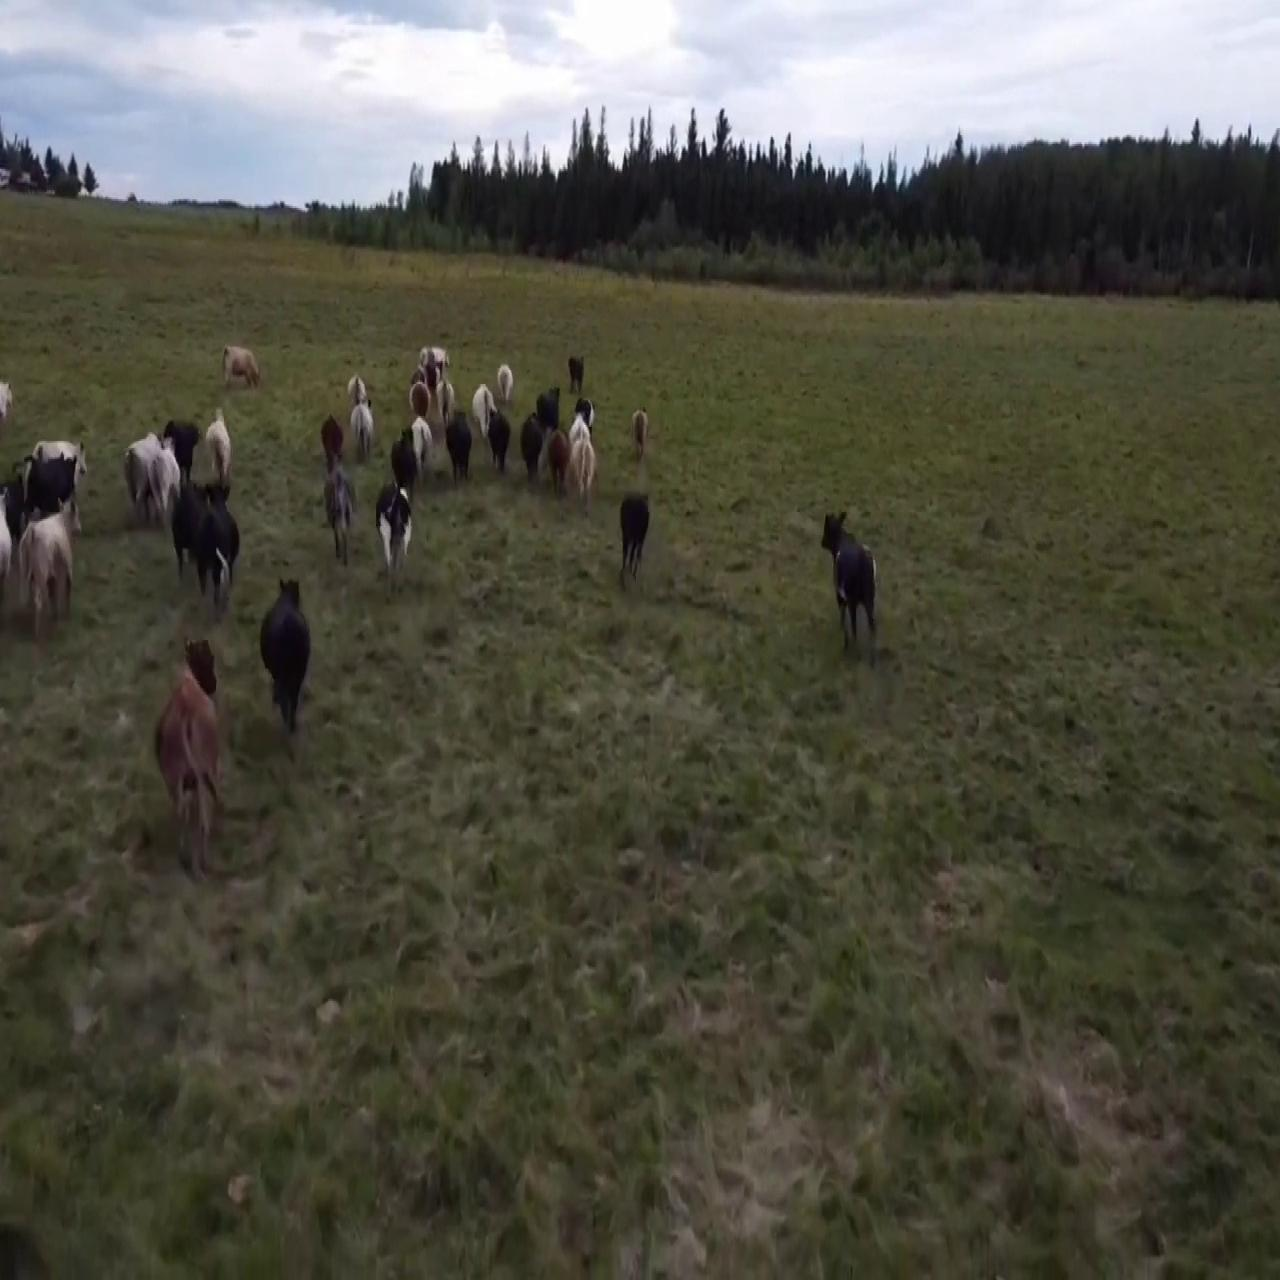cow: (154, 631, 229, 867), (254, 577, 319, 730), (816, 504, 886, 644), (20, 490, 86, 631), (26, 433, 89, 517), (614, 486, 659, 577), (376, 483, 417, 570), (320, 455, 354, 559), (218, 338, 266, 402), (444, 407, 475, 481), (576, 434, 595, 496), (549, 428, 567, 489)
